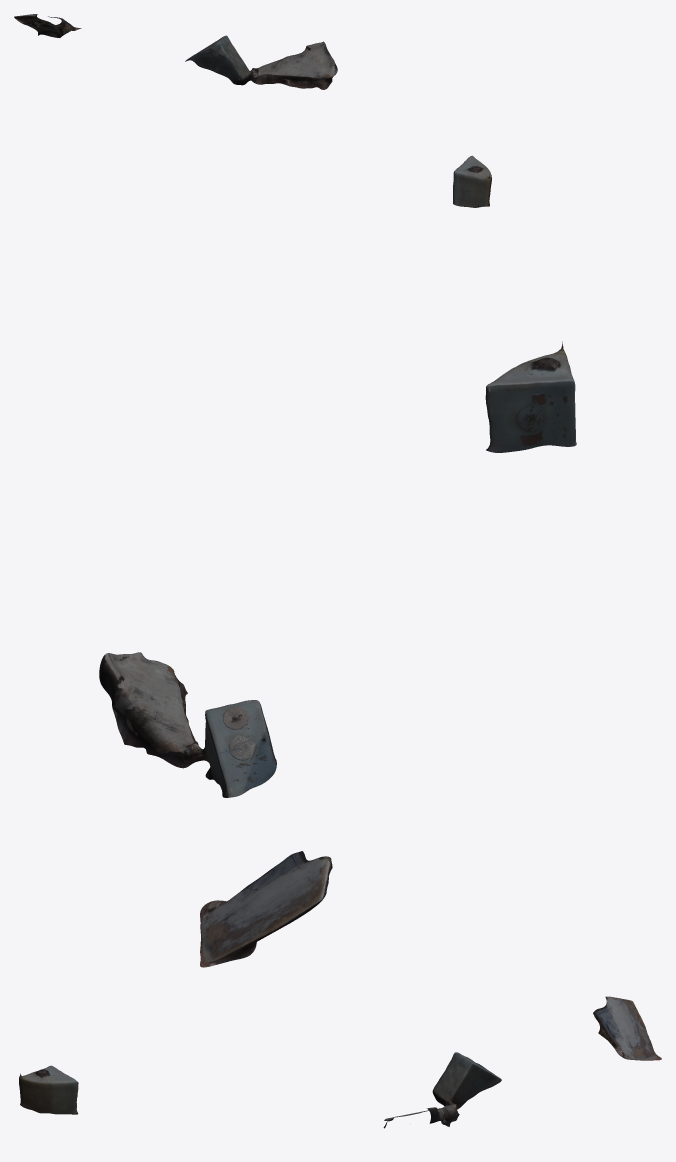
The model's file is GEO_KeelsBoxes.glb.
3 renders of one model, top to bottom at view 1: azimuth 30°, elevation 25°; view 2: azimuth 150°, elevation 25°; view 3: azimuth 270°, elevation 25°, orthographic. The views are drawn at different scales.
Visible parts, largest first — view 1: geo1; view 2: geo1; view 3: geo1.
Part boxes in pixels (bbox=[...]): geo1: bbox=[14, 14, 491, 207]; geo1: bbox=[99, 341, 576, 967]; geo1: bbox=[19, 996, 661, 1128].
Bounding box in the file's own units: 5.97 × 1.03 × 9.4.
1 material, 1 textured.
